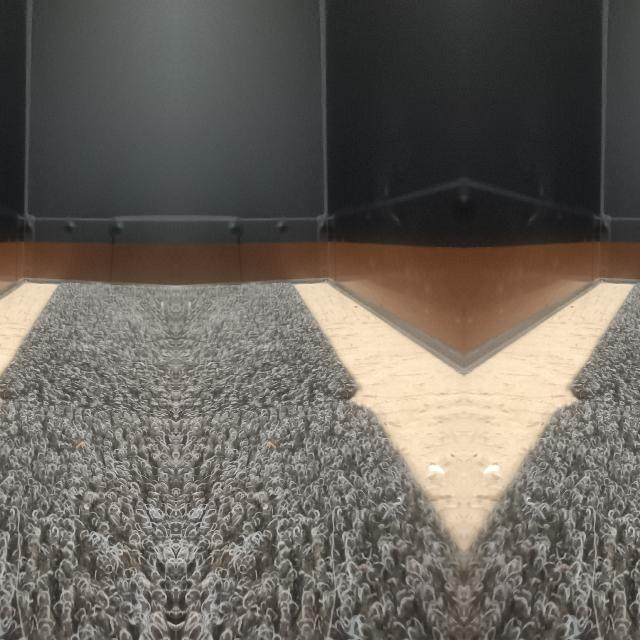obstacle: (176, 28, 328, 282), (23, 28, 174, 282), (600, 28, 640, 282)
